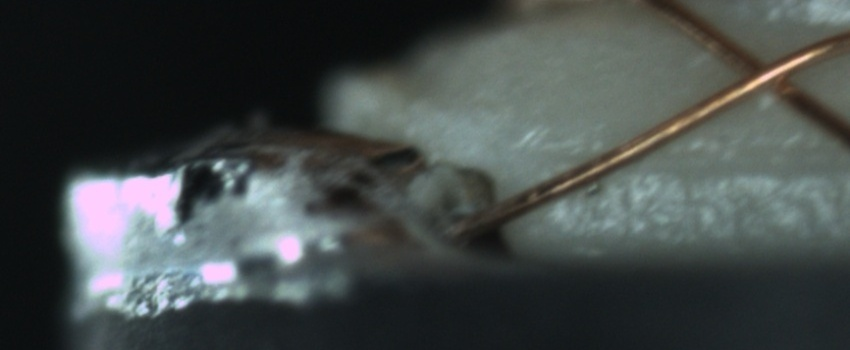CL: (716, 33, 819, 112)
DL: (555, 122, 846, 193)
